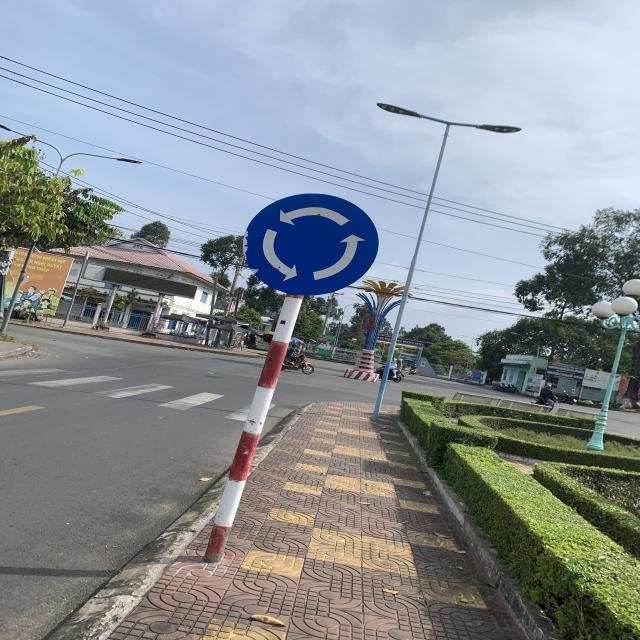Xe_Bus: (244, 193, 383, 297)
